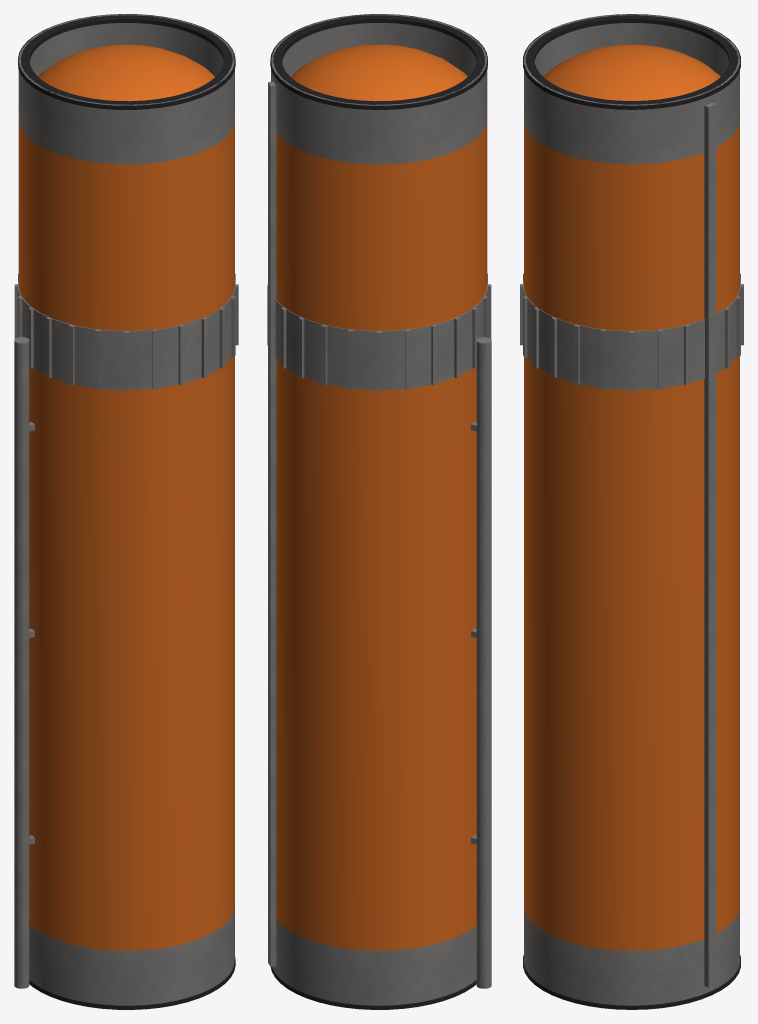
File: tank02_hydrolox_l.glb
3 views of the same model, side by side, from view 1: azimuth 30°, elevation 25°; view 2: azimuth 150°, elevation 25°; view 3: azimuth 270°, elevation 25° (orthographic).
Parts seen in each view (by area): view 1: tank, skirts, intertank, lox_feedline, stack_flanges; view 2: tank, skirts, intertank, lox_feedline, raceway, stack_flanges; view 3: tank, skirts, intertank, raceway, stack_flanges.
Part boxes in pixels (x1=…): tank: x1=18, y1=44, x2=234, y2=950; skirts: x1=18, y1=14, x2=234, y2=1005; intertank: x1=14, y1=273, x2=238, y2=391; lox_feedline: x1=14, y1=337, x2=34, y2=988; stack_flanges: x1=18, y1=14, x2=235, y2=1009; tank: x1=276, y1=44, x2=487, y2=950; skirts: x1=271, y1=14, x2=487, y2=1005; intertank: x1=267, y1=273, x2=491, y2=391; lox_feedline: x1=471, y1=337, x2=491, y2=988; raceway: x1=268, y1=81, x2=276, y2=966; stack_flanges: x1=270, y1=14, x2=487, y2=1009; tank: x1=524, y1=44, x2=739, y2=950; skirts: x1=524, y1=14, x2=739, y2=1005; intertank: x1=520, y1=273, x2=743, y2=391; raceway: x1=704, y1=102, x2=716, y2=987; stack_flanges: x1=523, y1=14, x2=740, y2=1009.
Size of the model in its own units: 4.17 by 17.3 by 3.88.
3 materials, 1 textured.
